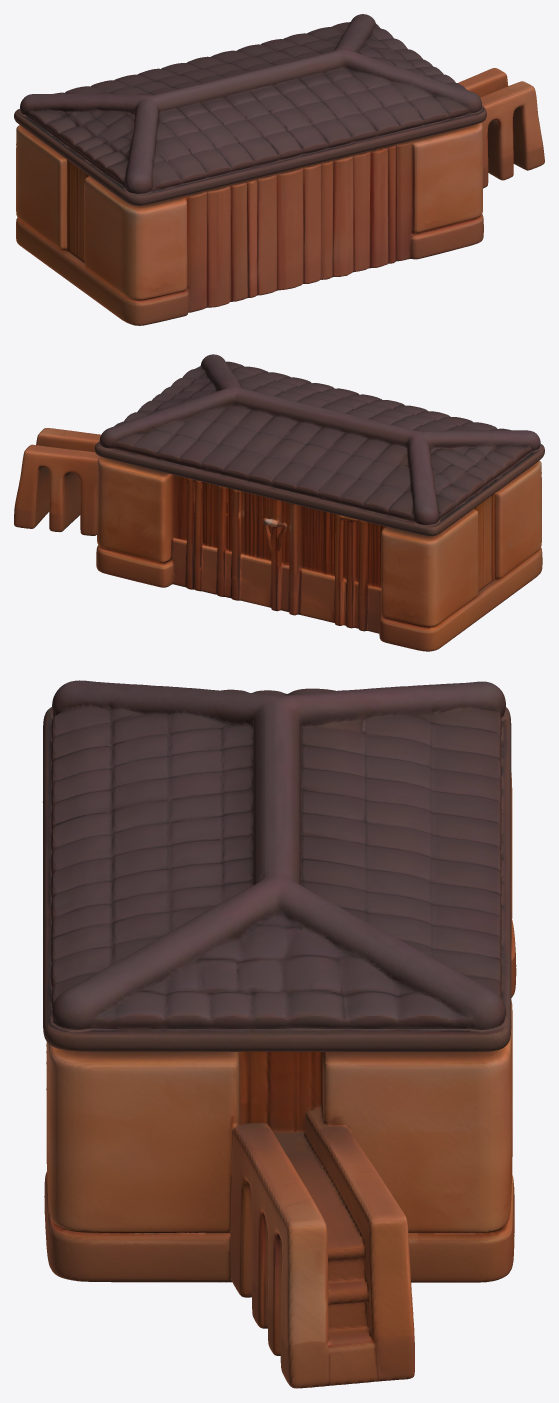
Rendered from skynoe02.glb.
3 renders of one model, top to bottom at view 1: azimuth 30°, elevation 25°; view 2: azimuth 150°, elevation 25°; view 3: azimuth 270°, elevation 25°, orthographic. The views are drawn at different scales.
Visible parts, largest first — view 1: tripo_node_e68acc6c-b716-4835-b2b5-e8b1f183eeba; view 2: tripo_node_e68acc6c-b716-4835-b2b5-e8b1f183eeba; view 3: tripo_node_e68acc6c-b716-4835-b2b5-e8b1f183eeba.
Boxes of the visible parts, x1,y1,x2,y2 form: tripo_node_e68acc6c-b716-4835-b2b5-e8b1f183eeba: [14, 14, 544, 325]; tripo_node_e68acc6c-b716-4835-b2b5-e8b1f183eeba: [14, 354, 544, 651]; tripo_node_e68acc6c-b716-4835-b2b5-e8b1f183eeba: [42, 680, 516, 1388].
Bounding box in the file's own units: 1 × 0.3386 × 0.4499.
1 material, 1 textured.
